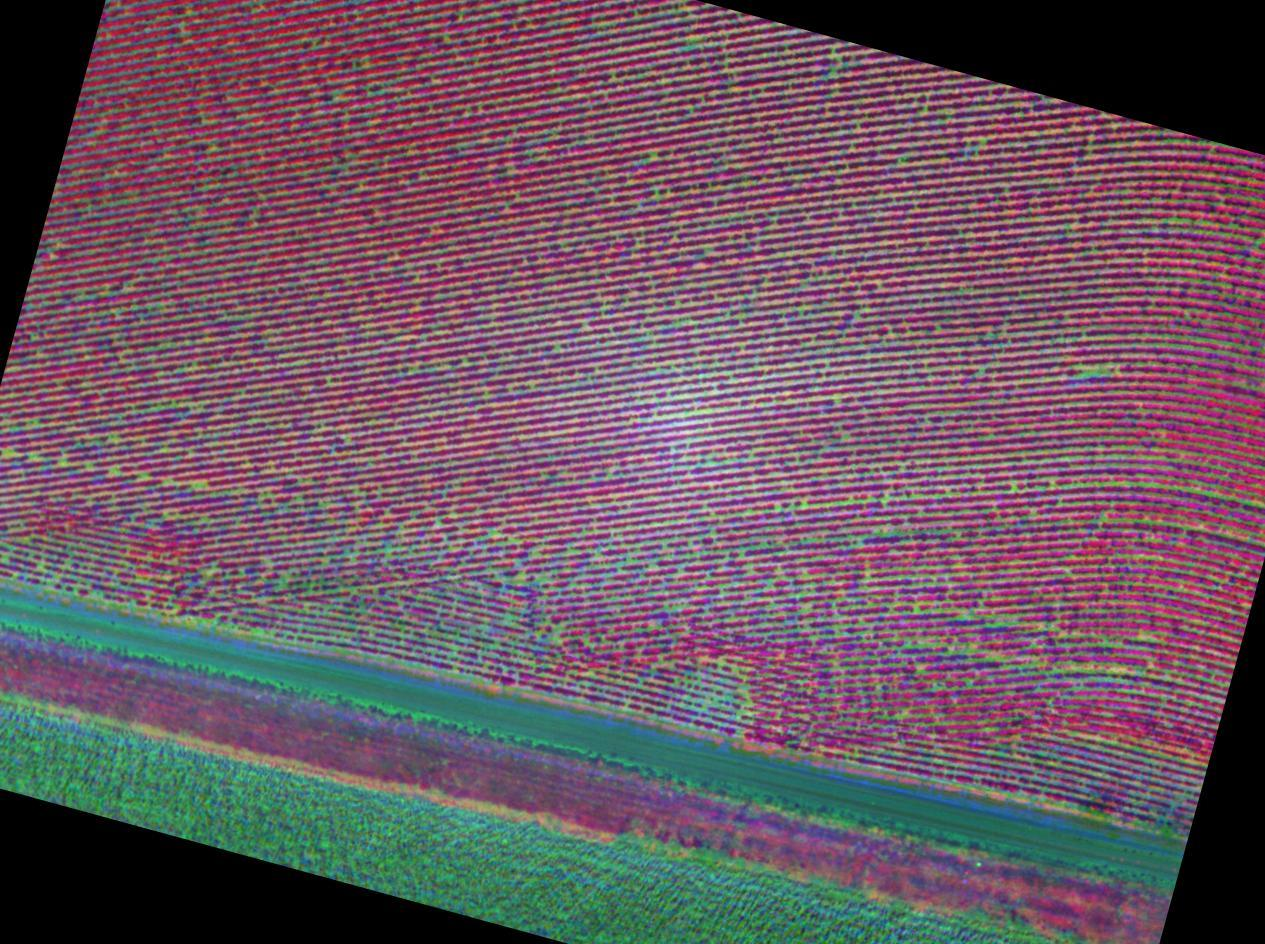dc: (1088, 370, 1097, 377), (195, 481, 203, 488), (518, 574, 523, 578)
